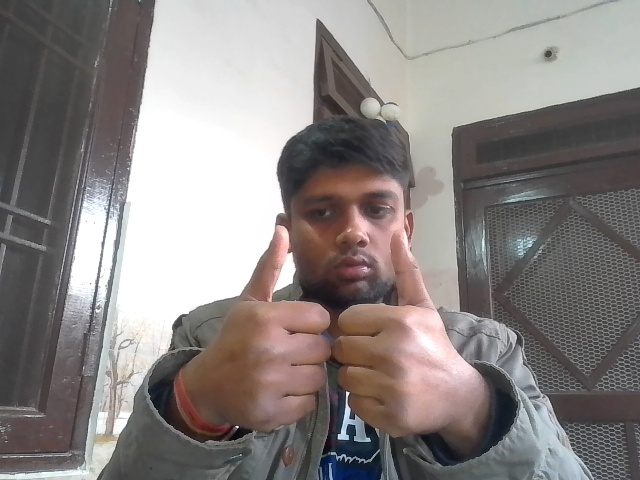Excellent: (217, 223, 460, 445)
